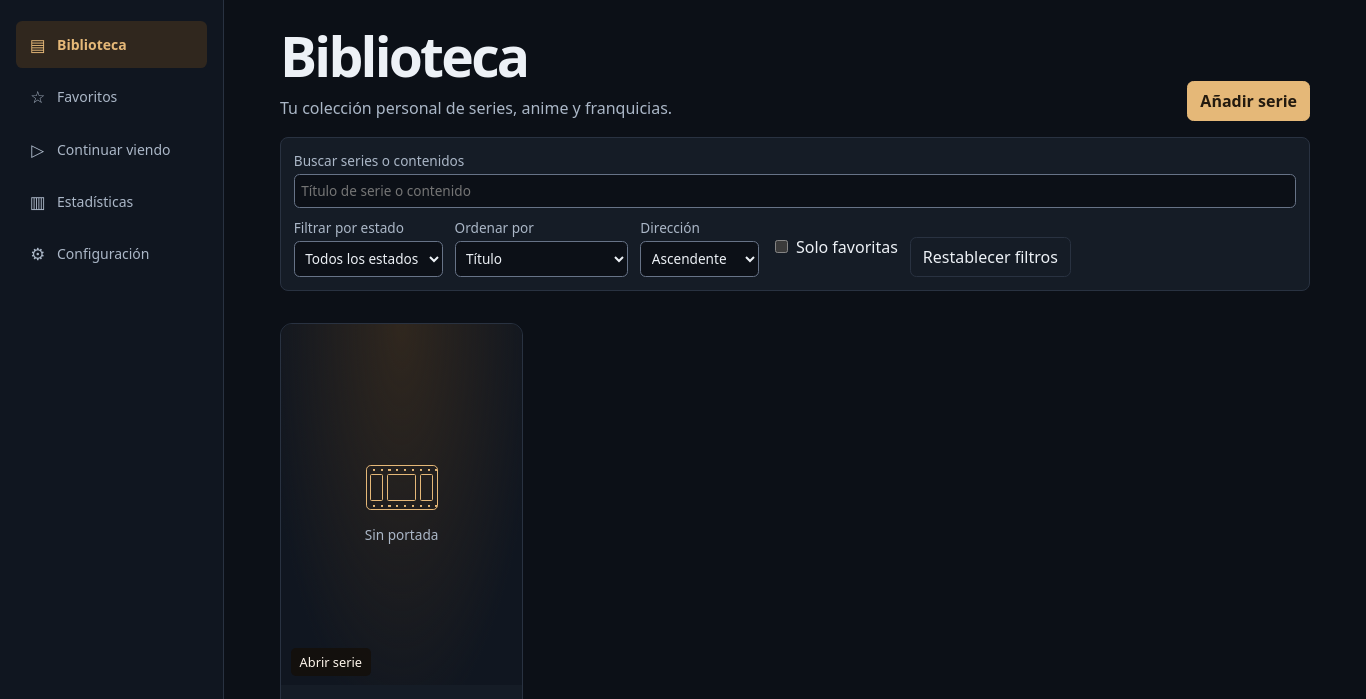
Scenario: MyList › shows favorites, confirms deletion and preserves the previous view on failure
This screenshot has width=1366, height=699.
Click the button "☆ Favoritos" at (112, 97), box [16,73,207,121]
(page scrolled)
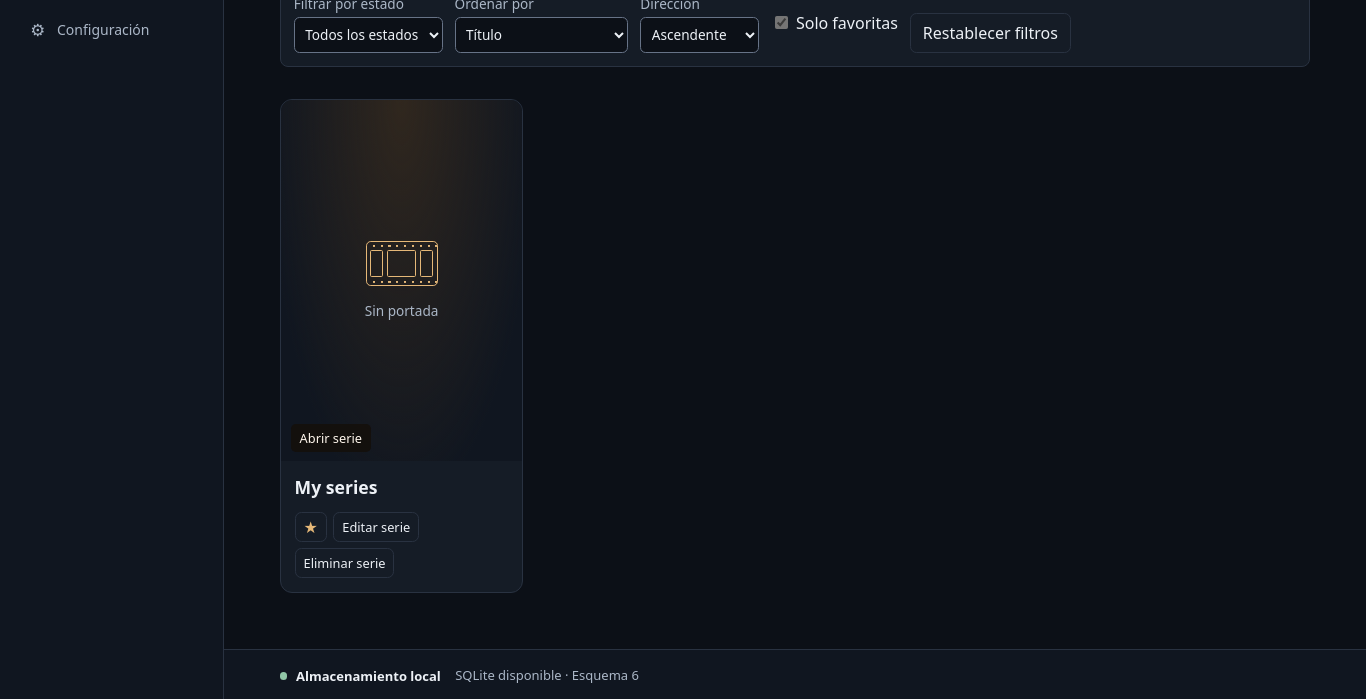
Click the button "Eliminar serie" at (344, 563), box [295,548,394,578]
(page scrolled)
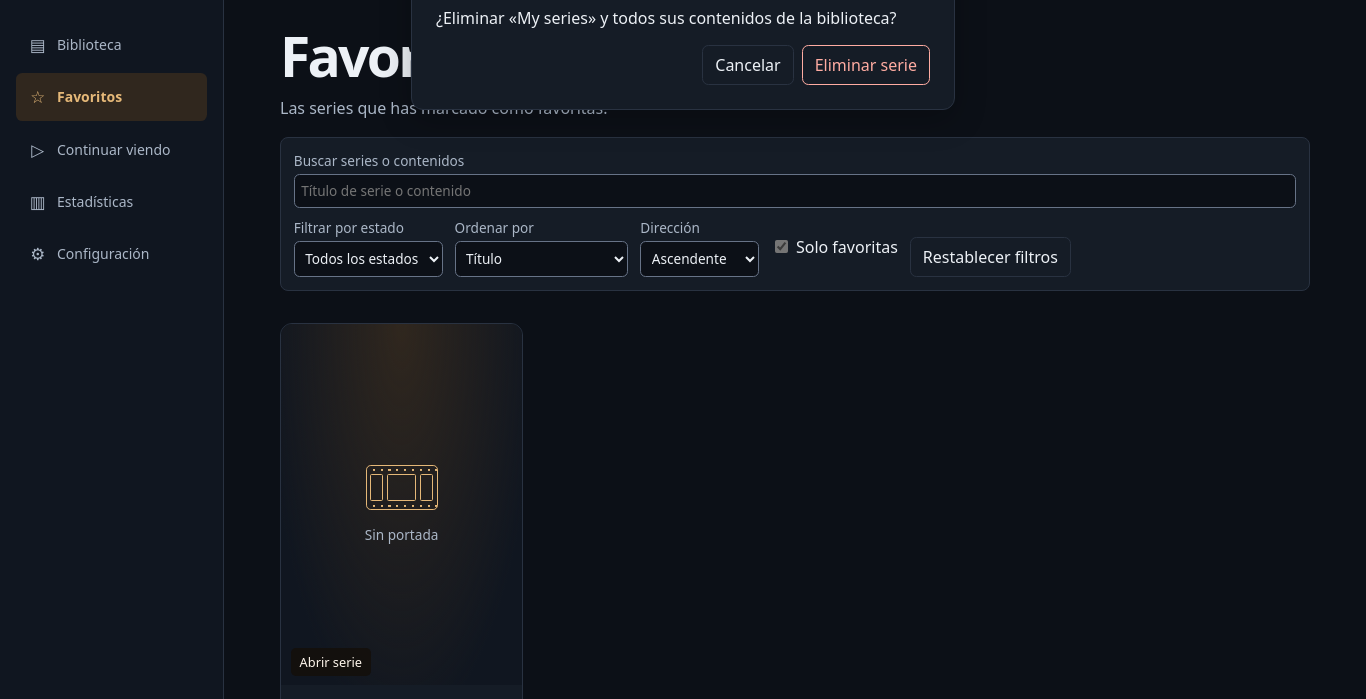
Click the button "Eliminar serie" at (866, 65), box [802,45,930,85]
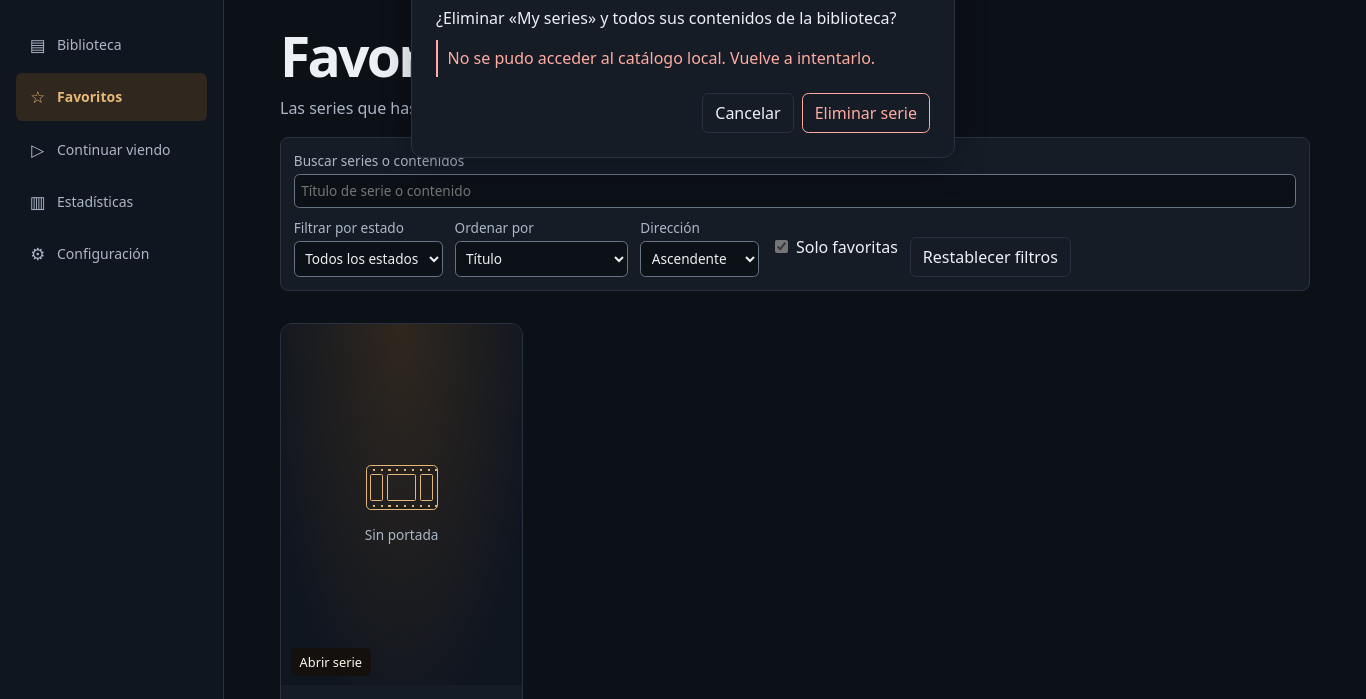
Result: the message "No se pudo acceder al catálogo local. Vuelve a intentarlo." is shown at [436,40,930,77]
Click the button "Cancelar" at (748, 113), box [702,93,794,133]
(page scrolled)
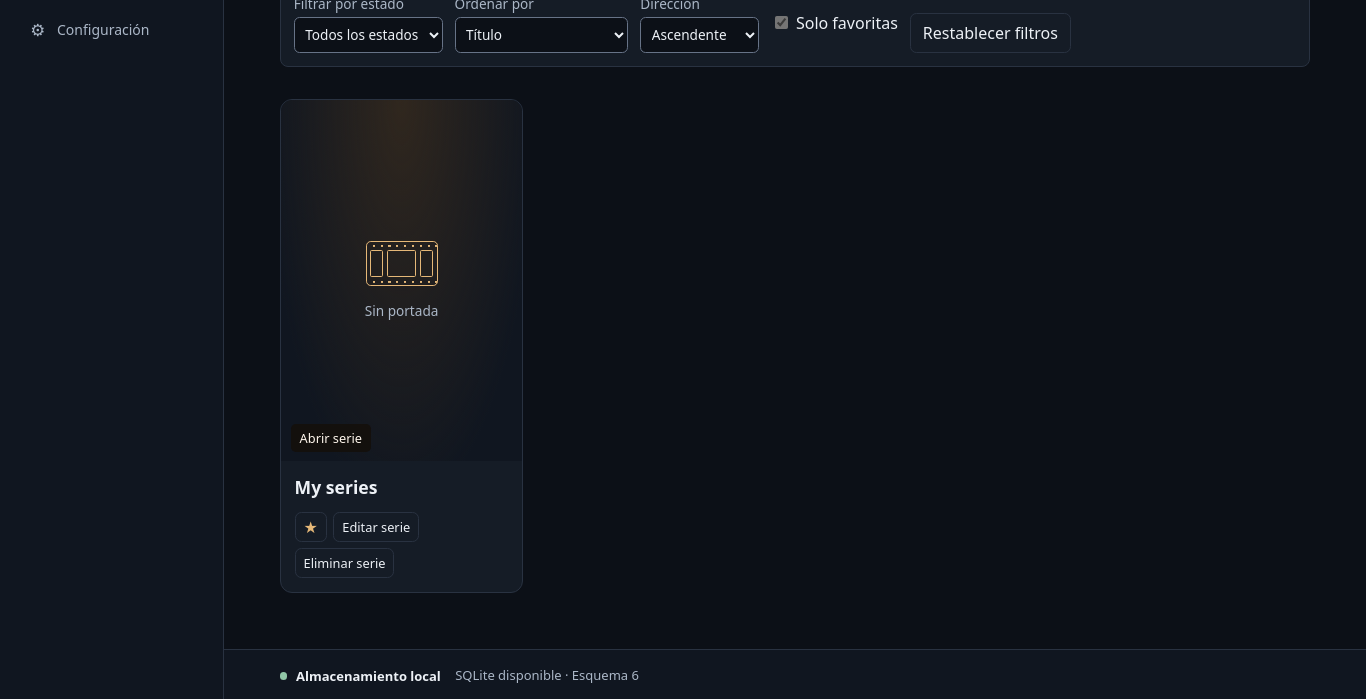
Expected: the heading "My series" is shown, [295,475,377,499]
Click the button named "Quitar de favoritas" at (311, 527), box [295,512,327,542]
(page scrolled)
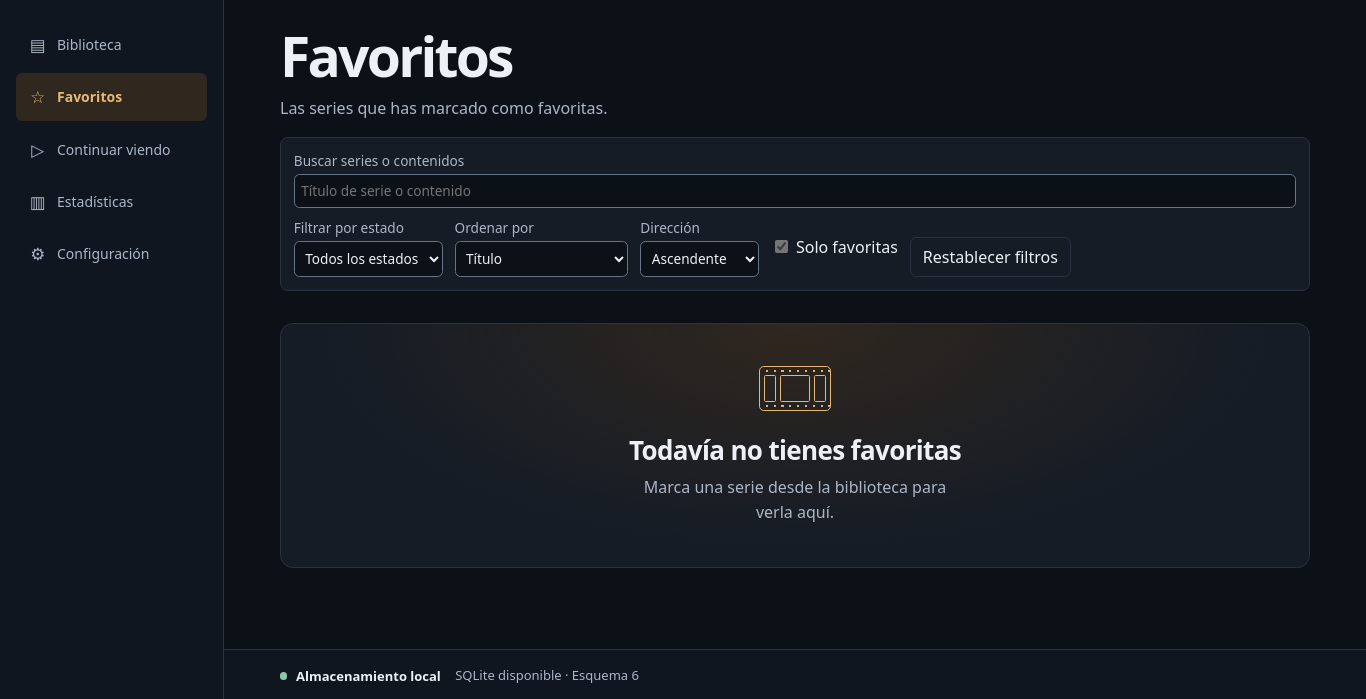
Result: the heading "Todavía no tienes favoritas" is shown at [629,435,961,466]
